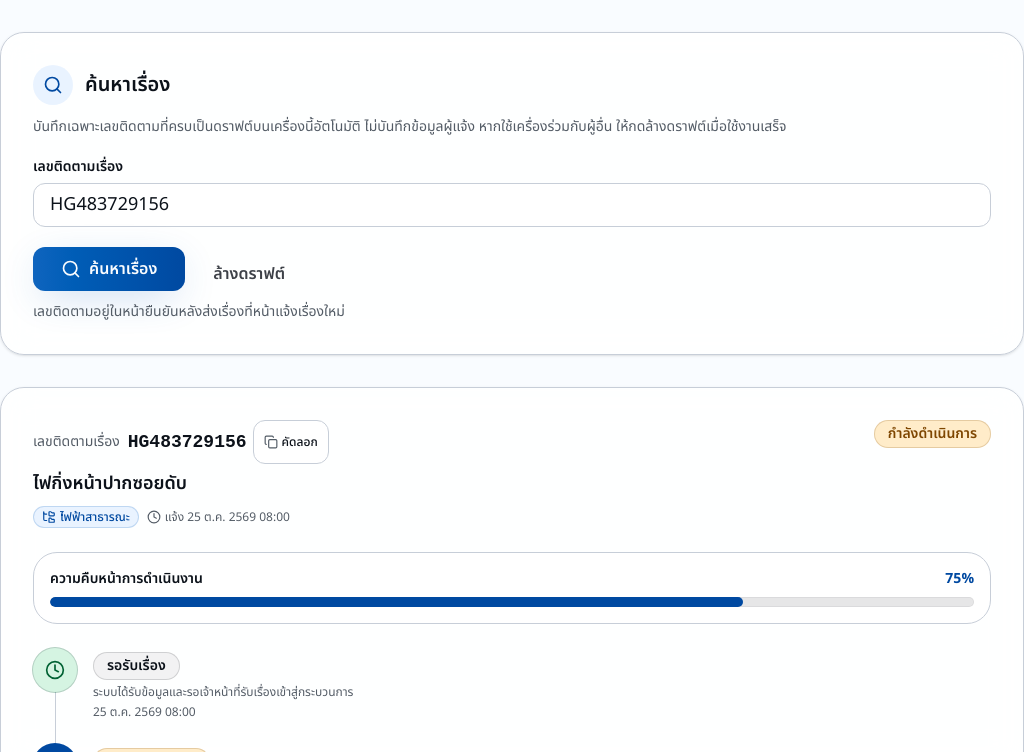
Scenario: ฟอร์มติดตามเรื่องสำหรับผู้สูงอายุ › ปุ่มคัดลอกเลขติดตามเรียก navigator.clipboard.writeText และแสดงสถานะคัดลอกแล้ว
The image size is (1024, 752).
Expected: the heading "ไฟกิ่งหน้าปากซอยดับ" is shown, [33,470,187,497]
Click the button "คัดลอก".
click(291, 442)  # box [253,420,329,464]
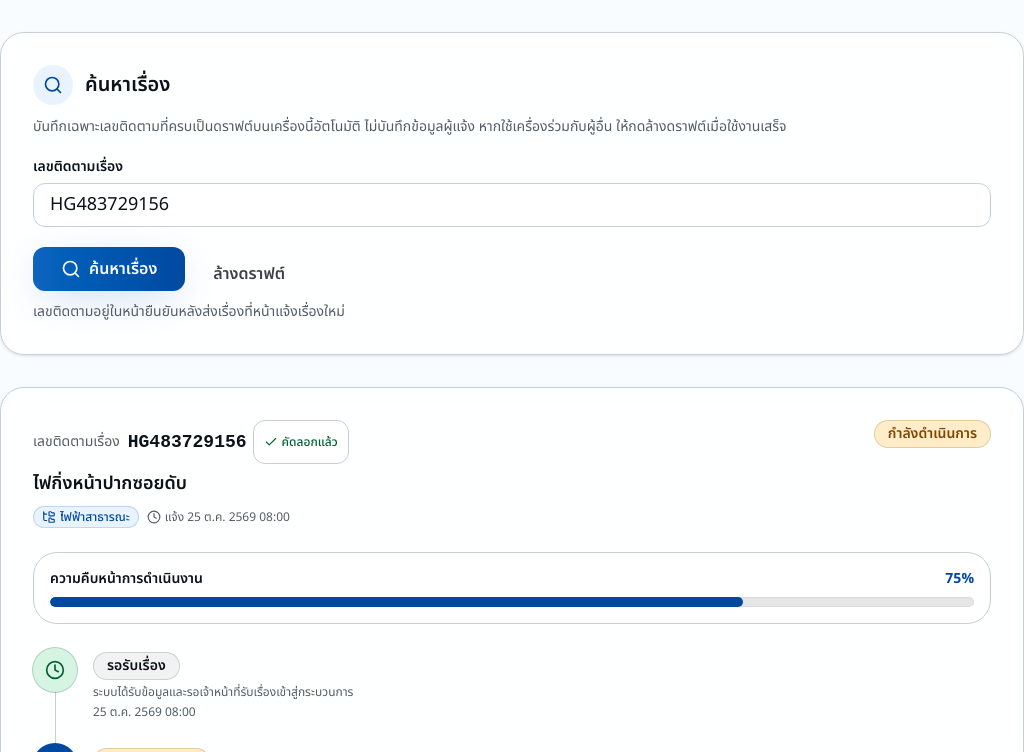
Result: the text "คัดลอกแล้ว" is shown at [282,434,338,450]
